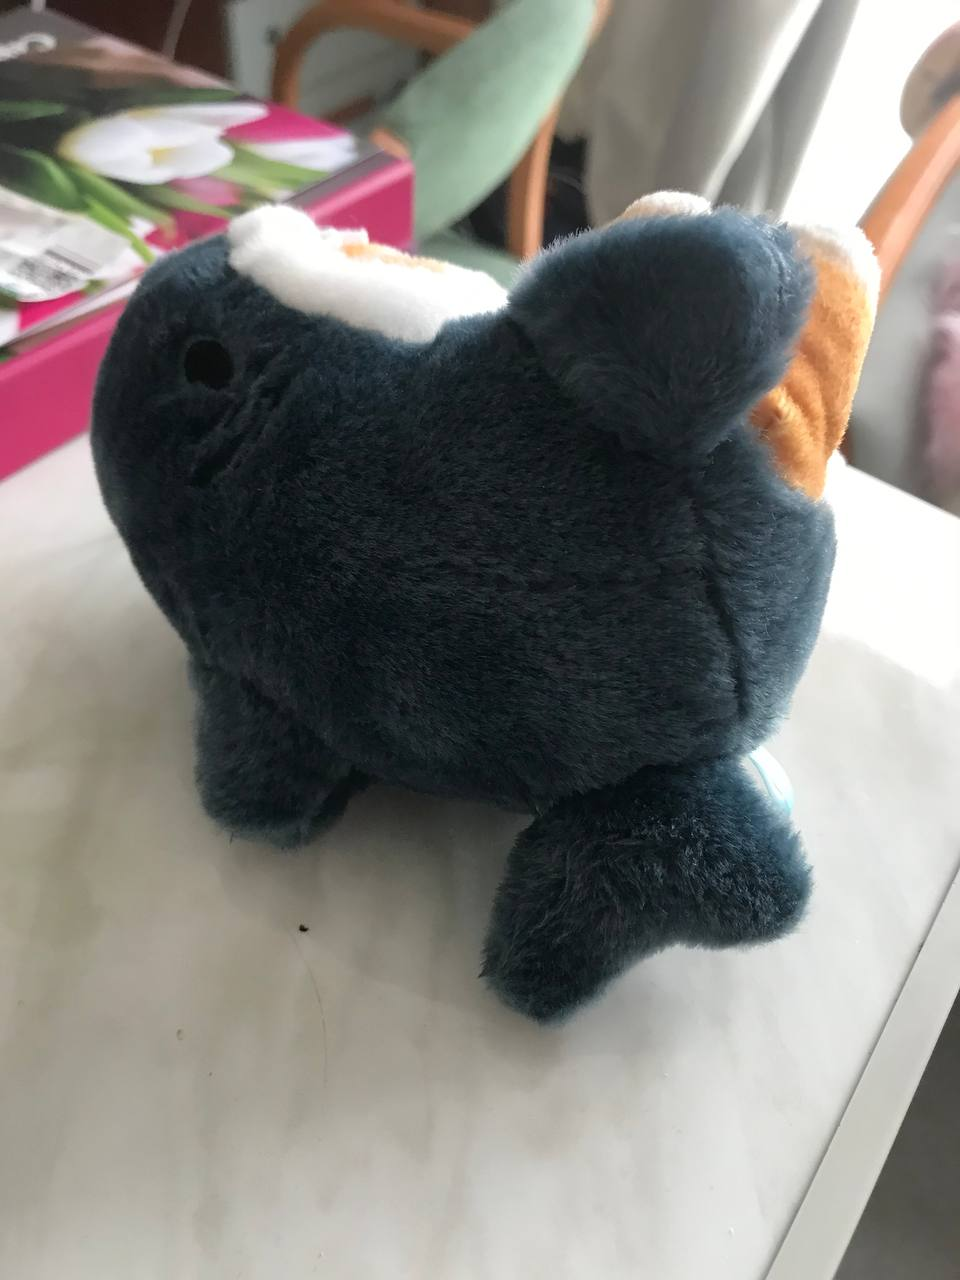cat_shark: (88, 186, 882, 1024)
